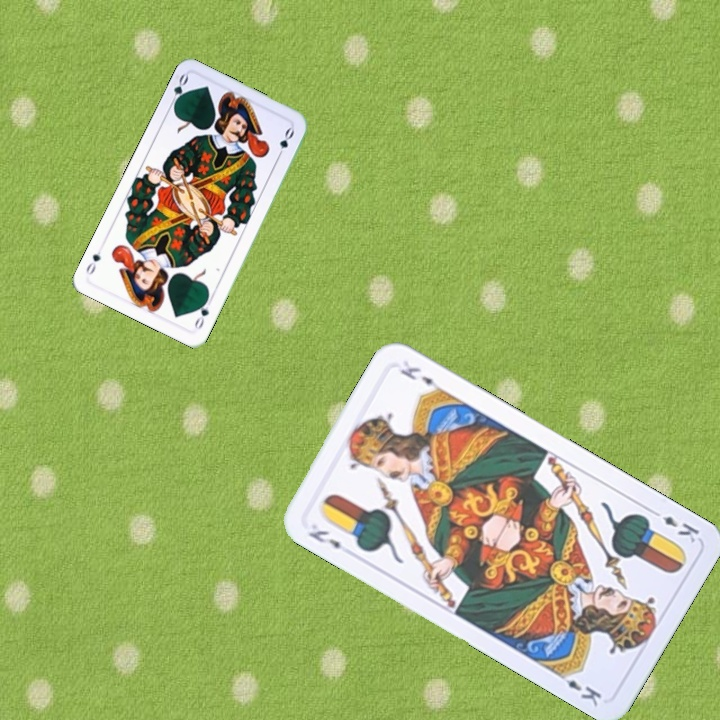EK: (647, 505, 702, 546), (304, 526, 344, 552)
GO: (165, 70, 191, 110), (190, 293, 215, 332)
